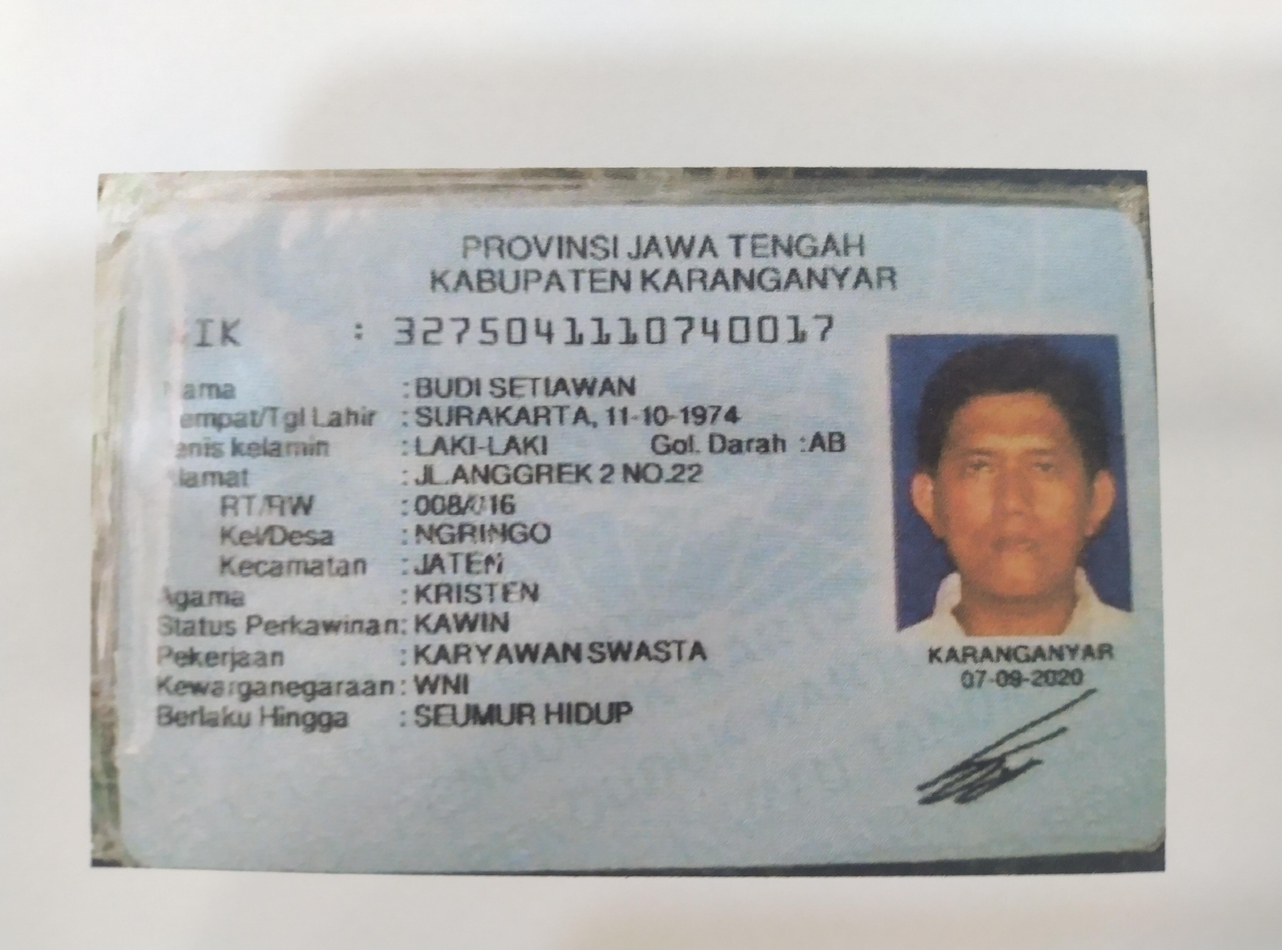ID-card: (143, 213, 1161, 857)
